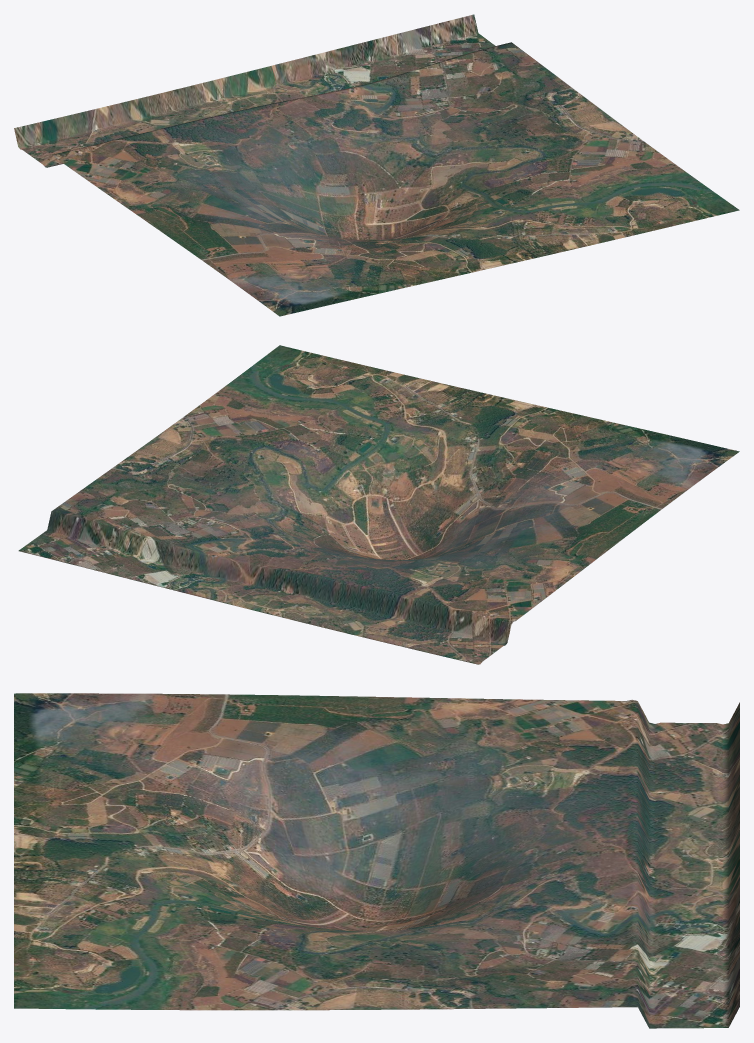
The model's file is terrain_real_T_W06_S02.glb.
3 views of the same model, one above another, from view 1: azimuth 30°, elevation 25°; view 2: azimuth 150°, elevation 25°; view 3: azimuth 270°, elevation 25° (orthographic). The views are drawn at different scales.
Visible parts, largest first — view 1: Terrain_Real_DEM_T_W06_S02; view 2: Terrain_Real_DEM_T_W06_S02; view 3: Terrain_Real_DEM_T_W06_S02.
Part boxes in pixels (left/top/right/bottom): Terrain_Real_DEM_T_W06_S02: left=14, top=14, right=739, bottom=316; Terrain_Real_DEM_T_W06_S02: left=18, top=345, right=739, bottom=664; Terrain_Real_DEM_T_W06_S02: left=14, top=693, right=739, bottom=1028.
Size of the model in its own units: 2000 by 271 by 2000.
Materials: 1 (1 with a texture image).
